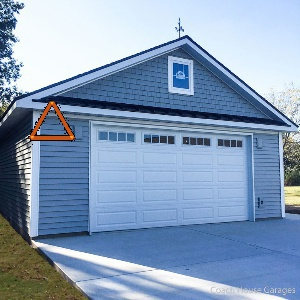triangle: (27, 98, 77, 144)
